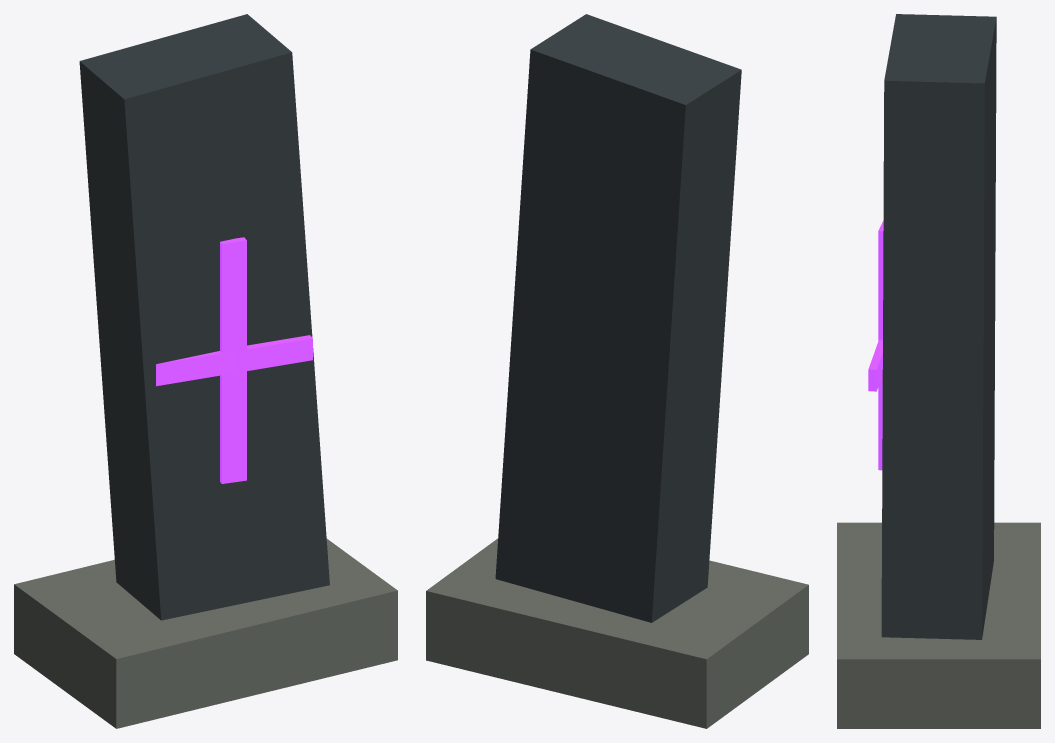
File: stone_marker_b.glb
3 views of the same model, side by side, from view 1: azimuth 30°, elevation 25°; view 2: azimuth 150°, elevation 25°; view 3: azimuth 270°, elevation 25° (orthographic).
Visible parts, largest first — view 1: Marker.001, Base.005, Rune_V.001, Rune_H.001; view 2: Marker.001, Base.005; view 3: Marker.001, Base.005, Rune_V.001, Rune_H.001.
Boxes of the visible parts, <box> form: Marker.001: <box>79,14,329,620</box>; Base.005: <box>14,539,397,728</box>; Rune_V.001: <box>220,237,246,483</box>; Rune_H.001: <box>156,335,312,386</box>; Marker.001: <box>495,14,741,622</box>; Base.005: <box>426,538,808,728</box>; Marker.001: <box>881,14,996,639</box>; Base.005: <box>837,522,1040,728</box>; Rune_V.001: <box>878,220,883,470</box>; Rune_H.001: <box>868,339,882,391</box>.
Bounding box in the file's own units: 1.35 × 2.8 × 0.85.
